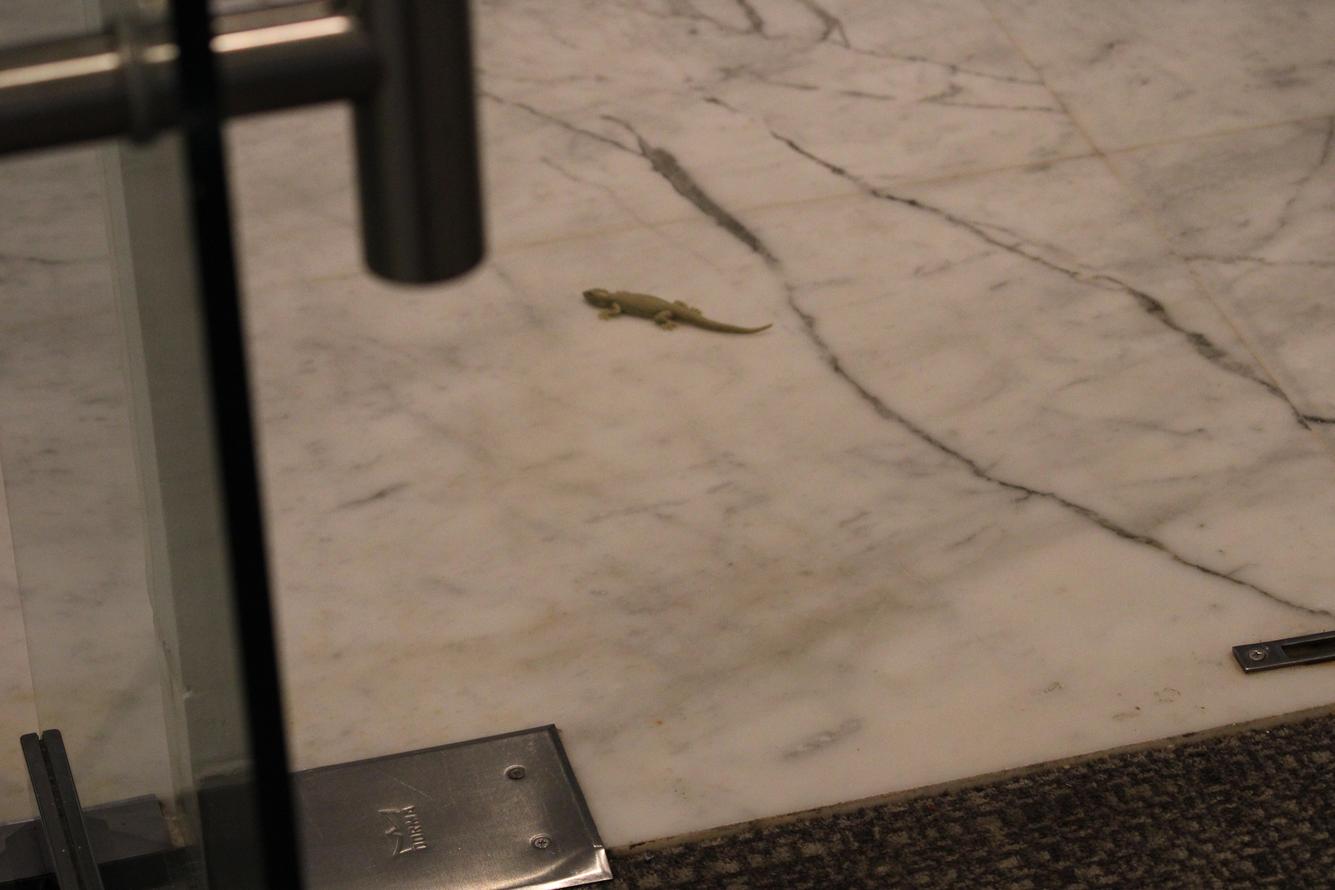lizard: (581, 276, 772, 347)
